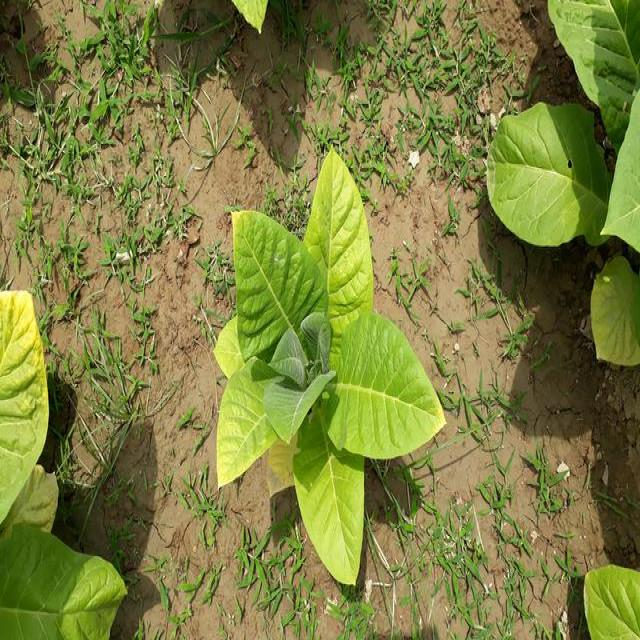crop: (220, 172, 439, 586), (498, 0, 640, 365), (0, 301, 126, 639), (580, 561, 639, 640)
